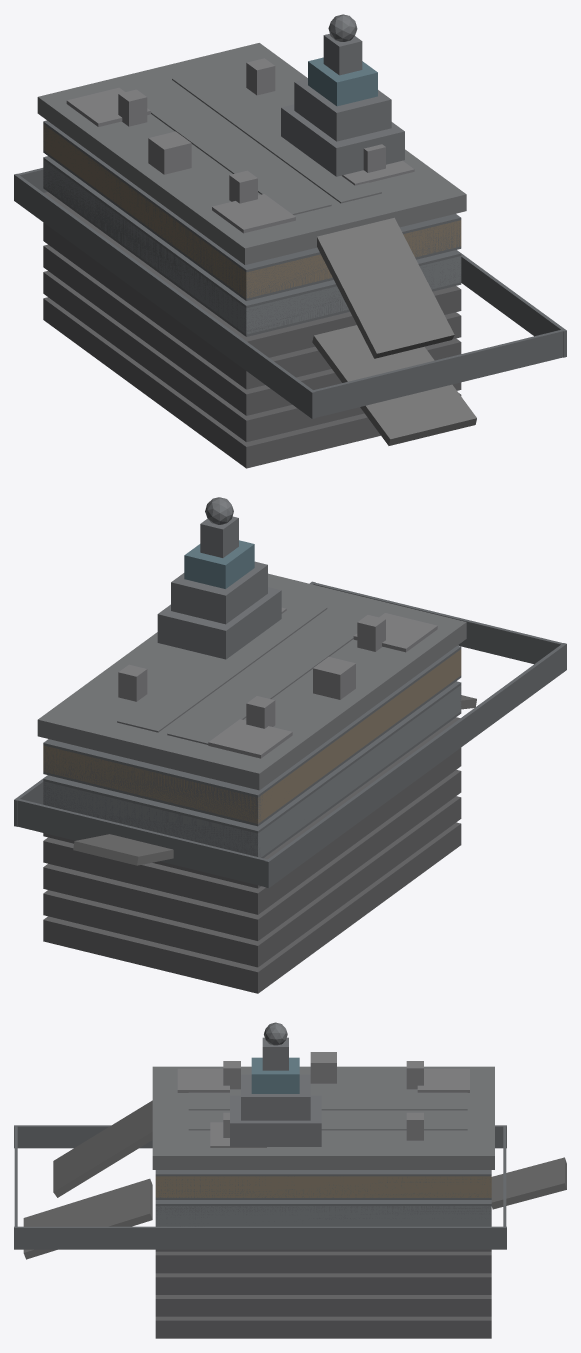
File: PRIM3_Site0_Claude_Handoff_v02.glb
3 renders of one model, top to bottom at view 1: azimuth 30°, elevation 25°; view 2: azimuth 150°, elevation 25°; view 3: azimuth 270°, elevation 25°, orthographic. The views are drawn at different scales.
Parts seen in each view (by area): view 1: L3_FLIGHT_DECK, REAR_UPPER_DRONE_AIRCRAFT_RAMP, PERIMETER_FENCE_X_-0.55, L2_BUSINESS_ADMIN, B5_SUPPORT_STORAGE, L1_LOGISTICS_ENTRY, REAR_LOWER_HEAVY_DEPLOYMENT_RAMP, B4_POWER_UTILITIES, B3_AIRCRAFT_HANGARS, PERIMETER_FENCE_Z_+1.41, L3_LAUNCH_STRIP, L3_RECOVERY_LANE (+20 smaller); view 2: L3_FLIGHT_DECK, B5_SUPPORT_STORAGE, B4_POWER_UTILITIES, B3_AIRCRAFT_HANGARS, L2_BUSINESS_ADMIN, L1_LOGISTICS_ENTRY, B2_MANUFACTURING_ROBOTICS, PERIMETER_FENCE_X_-0.55, L2_FRONT_EDGE, L3_LAUNCH_STRIP, PERIMETER_FENCE_Z_-0.83, L3_RECOVERY_LANE (+17 smaller); view 3: L3_FLIGHT_DECK, PERIMETER_FENCE_X_+0.55, B5_SUPPORT_STORAGE, B2_MANUFACTURING_ROBOTICS, B4_POWER_UTILITIES, B3_AIRCRAFT_HANGARS, L2_BUSINESS_ADMIN, L1_LOGISTICS_ENTRY, REAR_UPPER_DRONE_AIRCRAFT_RAMP, REAR_LOWER_HEAVY_DEPLOYMENT_RAMP, L3_LAUNCH_STRIP, L2_RIGHT_EDGE (+19 smaller).
Part boxes in pixels (box(x1,y1,x2,y2)): L3_FLIGHT_DECK: box(37, 43, 466, 264); REAR_UPPER_DRONE_AIRCRAFT_RAMP: box(317, 217, 454, 358); PERIMETER_FENCE_X_-0.55: box(14, 173, 315, 418); L2_BUSINESS_ADMIN: box(43, 124, 461, 298); B5_SUPPORT_STORAGE: box(43, 297, 461, 468); L1_LOGISTICS_ENTRY: box(43, 160, 461, 334); REAR_LOWER_HEAVY_DEPLOYMENT_RAMP: box(312, 325, 476, 445); B4_POWER_UTILITIES: box(43, 271, 461, 442); B3_AIRCRAFT_HANGARS: box(43, 244, 461, 415); PERIMETER_FENCE_Z_+1.41: box(312, 329, 563, 417); L3_LAUNCH_STRIP: box(124, 81, 331, 214); L3_RECOVERY_LANE: box(172, 68, 381, 203); L3_FLIGHT_DECK: box(37, 573, 466, 790); B5_SUPPORT_STORAGE: box(43, 822, 461, 993); B4_POWER_UTILITIES: box(43, 796, 461, 967); B3_AIRCRAFT_HANGARS: box(43, 770, 461, 940); L2_BUSINESS_ADMIN: box(43, 649, 461, 823); L1_LOGISTICS_ENTRY: box(43, 685, 461, 857); B2_MANUFACTURING_ROBOTICS: box(43, 748, 461, 914); PERIMETER_FENCE_X_-0.55: box(265, 643, 566, 888); L2_FRONT_EDGE: box(43, 739, 264, 826); L3_LAUNCH_STRIP: box(167, 610, 363, 744); PERIMETER_FENCE_Z_-0.83: box(16, 799, 268, 886); L3_RECOVERY_LANE: box(117, 597, 327, 732); L3_FLIGHT_DECK: box(152, 1066, 494, 1169); PERIMETER_FENCE_X_+0.55: box(14, 1226, 506, 1249); B5_SUPPORT_STORAGE: box(155, 1316, 491, 1338); B2_MANUFACTURING_ROBOTICS: box(155, 1251, 491, 1273); B4_POWER_UTILITIES: box(155, 1295, 491, 1316); B3_AIRCRAFT_HANGARS: box(155, 1273, 491, 1294); L2_BUSINESS_ADMIN: box(155, 1176, 491, 1197); L1_LOGISTICS_ENTRY: box(155, 1206, 491, 1226); REAR_UPPER_DRONE_AIRCRAFT_RAMP: box(53, 1100, 152, 1197); REAR_LOWER_HEAVY_DEPLOYMENT_RAMP: box(23, 1178, 152, 1259); L3_LAUNCH_STRIP: box(188, 1092, 467, 1110); L2_RIGHT_EDGE: box(166, 1170, 480, 1199).
Size of the model in its own units: 1.12 by 1.5 by 2.53.
